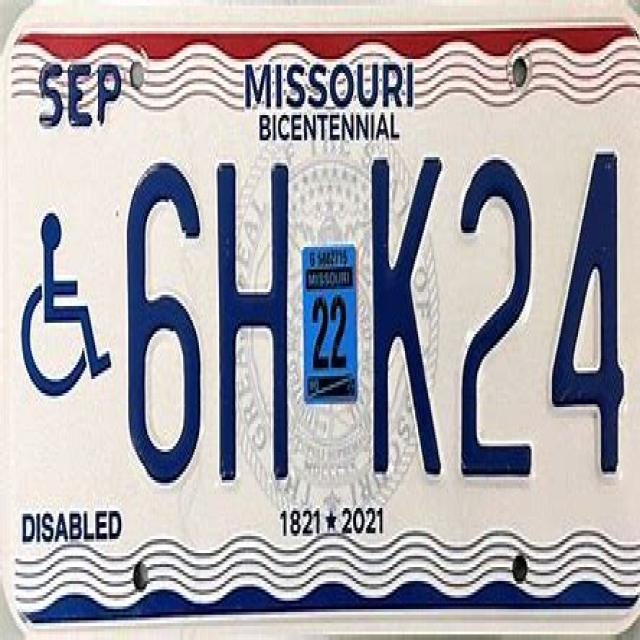symbol_of_access: (17, 211, 114, 401)
